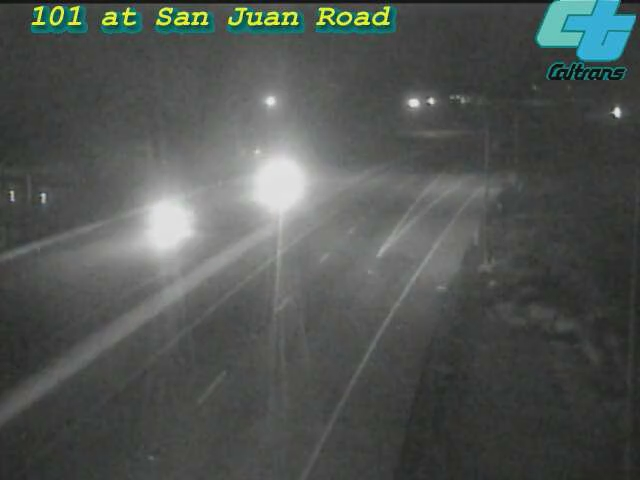vehicle: (126, 184, 206, 264), (235, 143, 315, 223), (589, 87, 639, 137)
